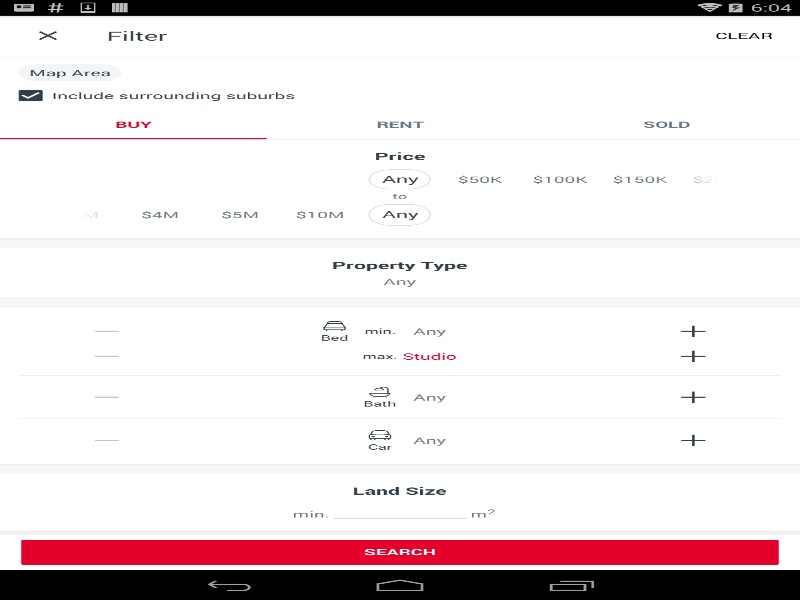Button: (21, 539, 778, 565), (10, 15, 85, 55)
Input: (333, 495, 466, 528)
